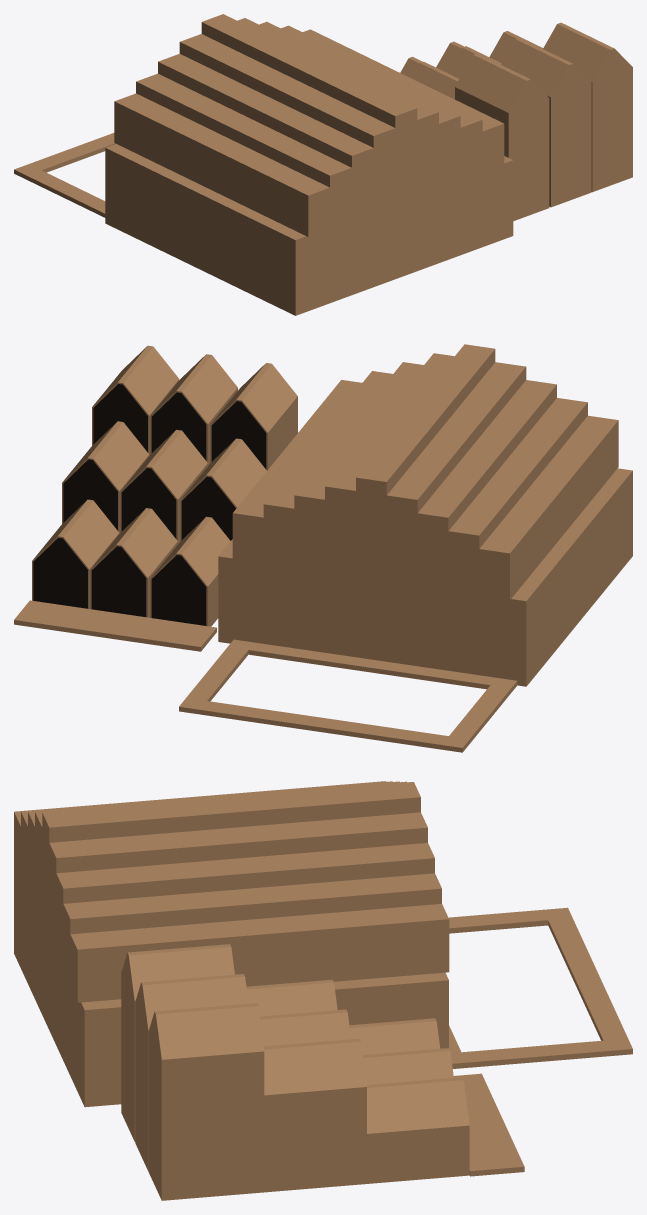
File: 10_Spa_Hotel.glb
3 views of the same model, one above another, from view 1: azimuth 30°, elevation 25°; view 2: azimuth 150°, elevation 25°; view 3: azimuth 270°, elevation 25° (orthographic). The views are drawn at different scales.
Visible parts, largest first — view 1: 10_Spa_Hotel; view 2: 10_Spa_Hotel; view 3: 10_Spa_Hotel.
Part boxes in pixels (left/top/right/bottom): 10_Spa_Hotel: left=14, top=14, right=632, bottom=315; 10_Spa_Hotel: left=14, top=344, right=632, bottom=752; 10_Spa_Hotel: left=14, top=781, right=632, bottom=1200.
Size of the model in its own units: 81.41 by 27.81 by 74.
